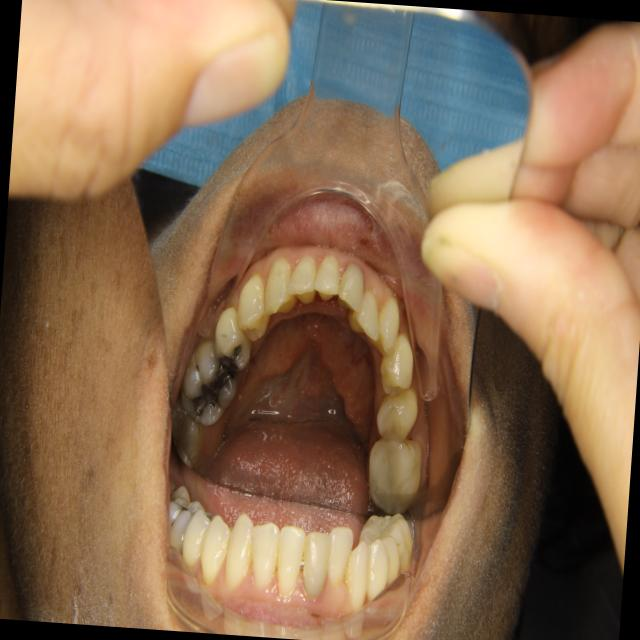tooth: (178, 339, 244, 434), (362, 429, 427, 519), (369, 326, 421, 405), (209, 299, 258, 375), (228, 273, 276, 346), (374, 382, 423, 449), (260, 253, 303, 327), (348, 279, 388, 353), (168, 396, 206, 471), (282, 250, 326, 314), (331, 254, 368, 327), (312, 243, 345, 311), (374, 290, 404, 363)
